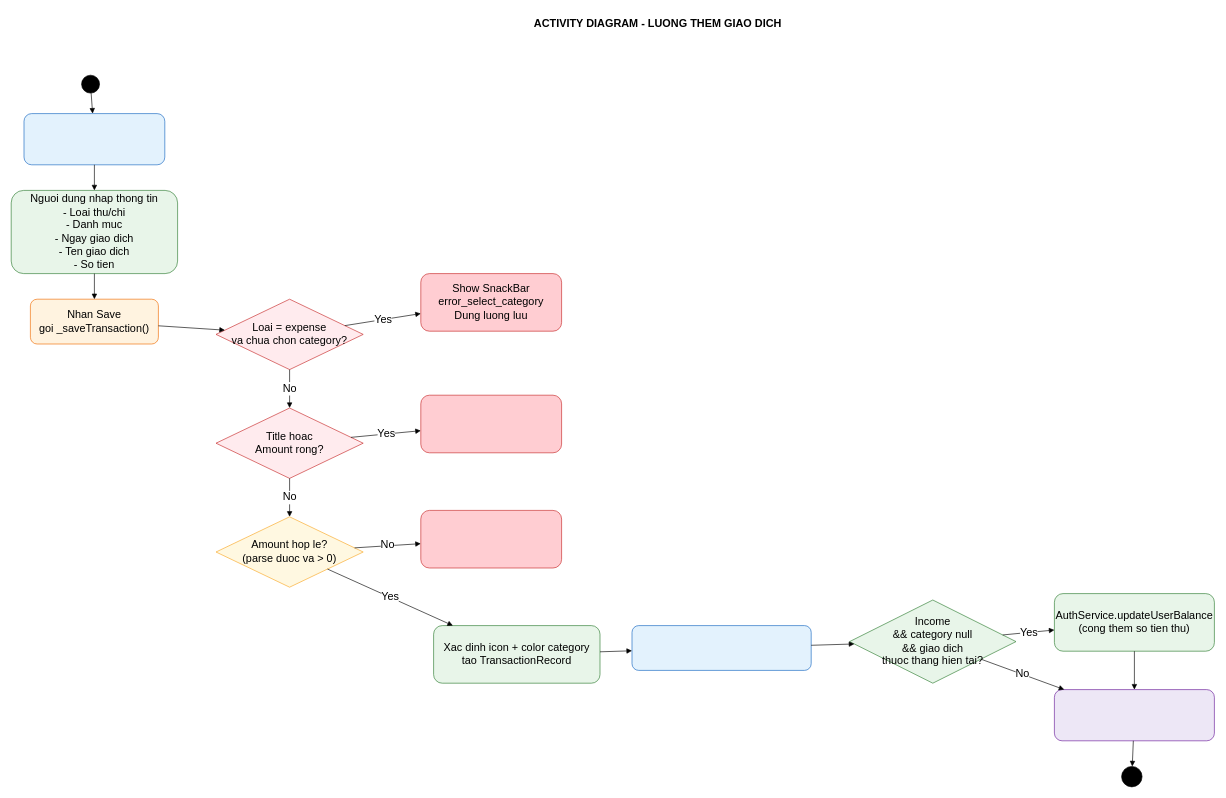
Image size: 1226x798. Some labels were removed from this diagram. Here are the shapes that lost their labels. From the top down, the box of each, then its label:
(23, 113, 165, 165): Mo man hinh AddTransaction initState(): load vi + danh muc
(420, 395, 562, 453): Show SnackBar error_empty Dung luong luu
(420, 510, 562, 568): Show SnackBar error_invalid_amount Dung luong luu
(631, 625, 811, 670): TransactionService.addTransaction (newTrans)
(1054, 689, 1214, 741): Navigator.pop(context) dong man hinh them giao dich
